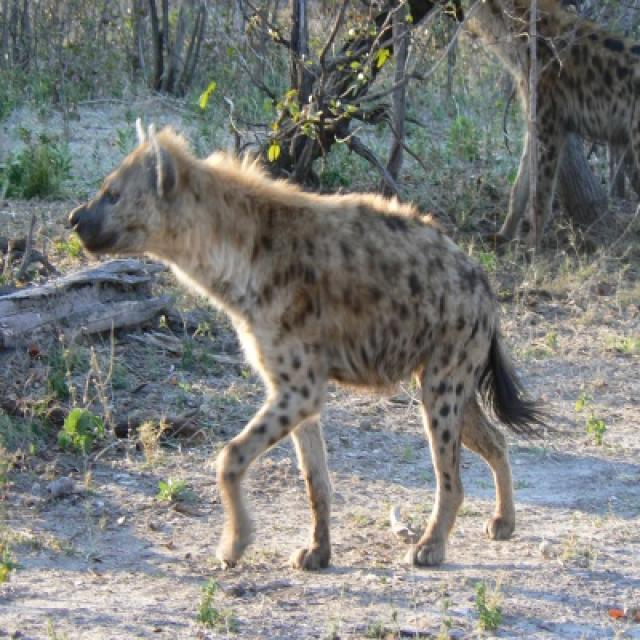hyena: (69, 118, 536, 568)
